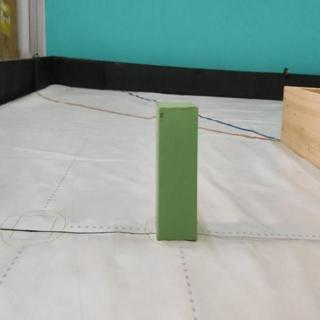greenbox: (155, 100, 200, 241)
